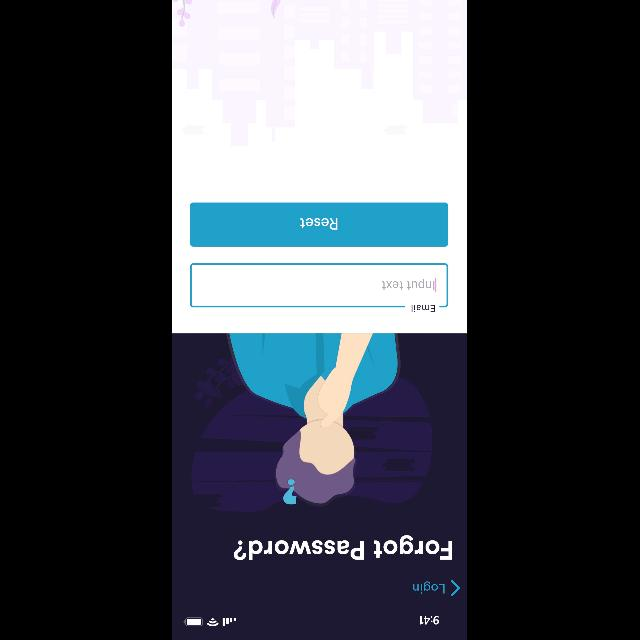icon: (451, 580, 461, 596)
image: (192, 333, 432, 512)
input: (191, 264, 449, 312)
text: (234, 534, 453, 560), (383, 279, 435, 291), (414, 582, 446, 594), (412, 304, 436, 312)
textbutton: (191, 202, 449, 246)
uppertaskbar: (184, 616, 440, 626)
